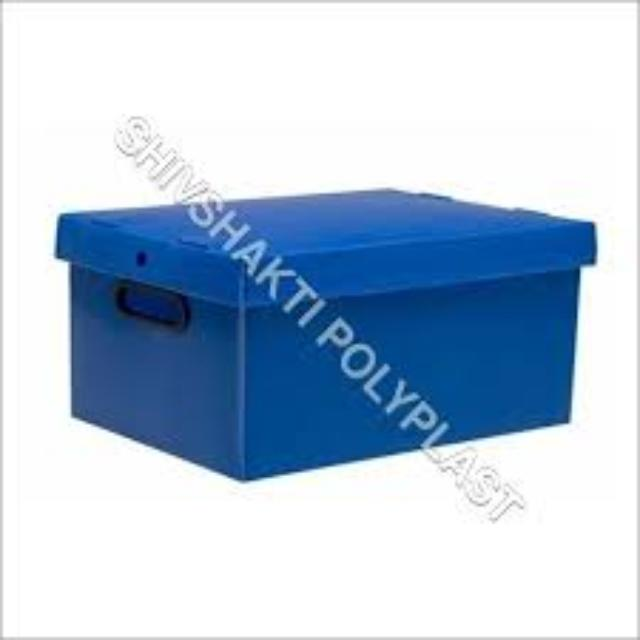cardboard paper: (54, 188, 596, 483)
